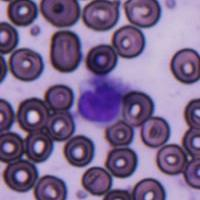M: (78, 74, 125, 125)
